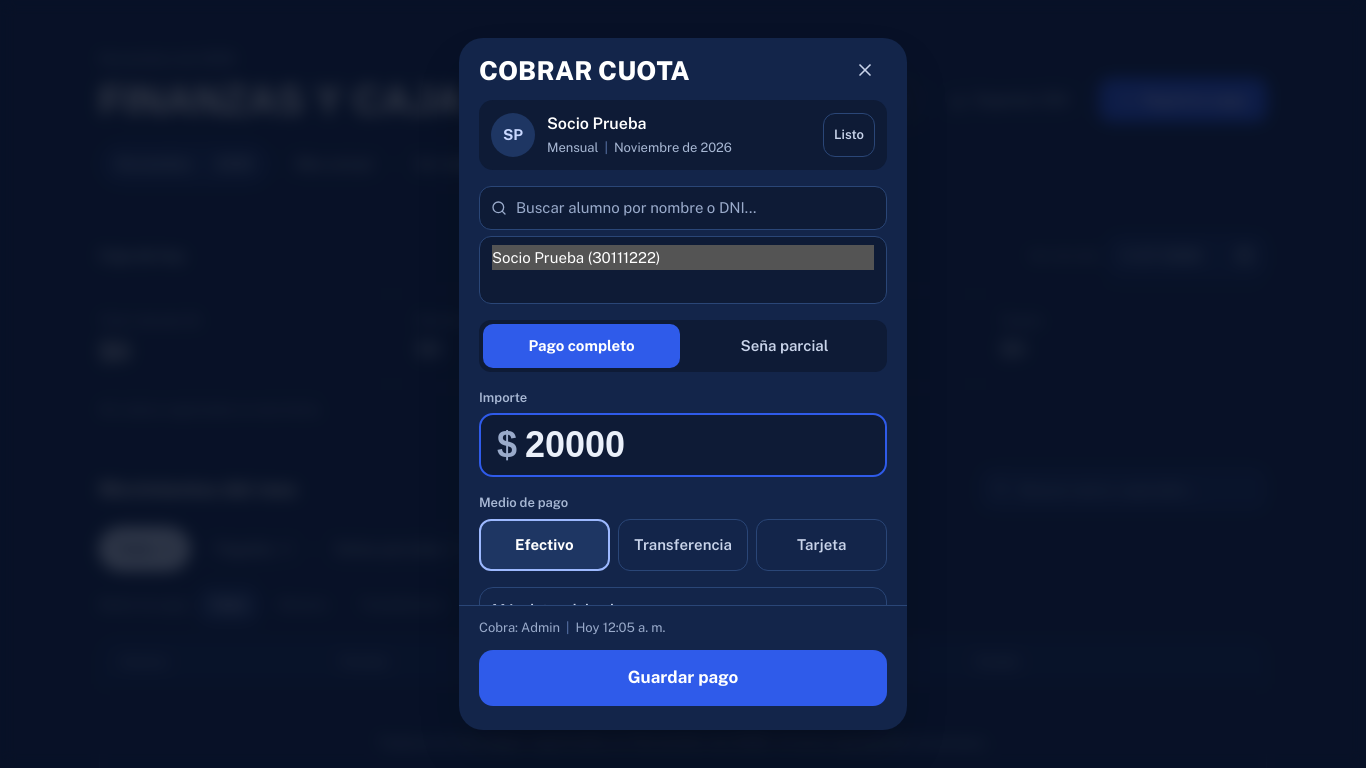
Scenario: confirmación de cobro › consulta el resultado incierto sin repetir el cobro
Click the button "Guardar pago" at (683, 678), box [479,650,887,706]
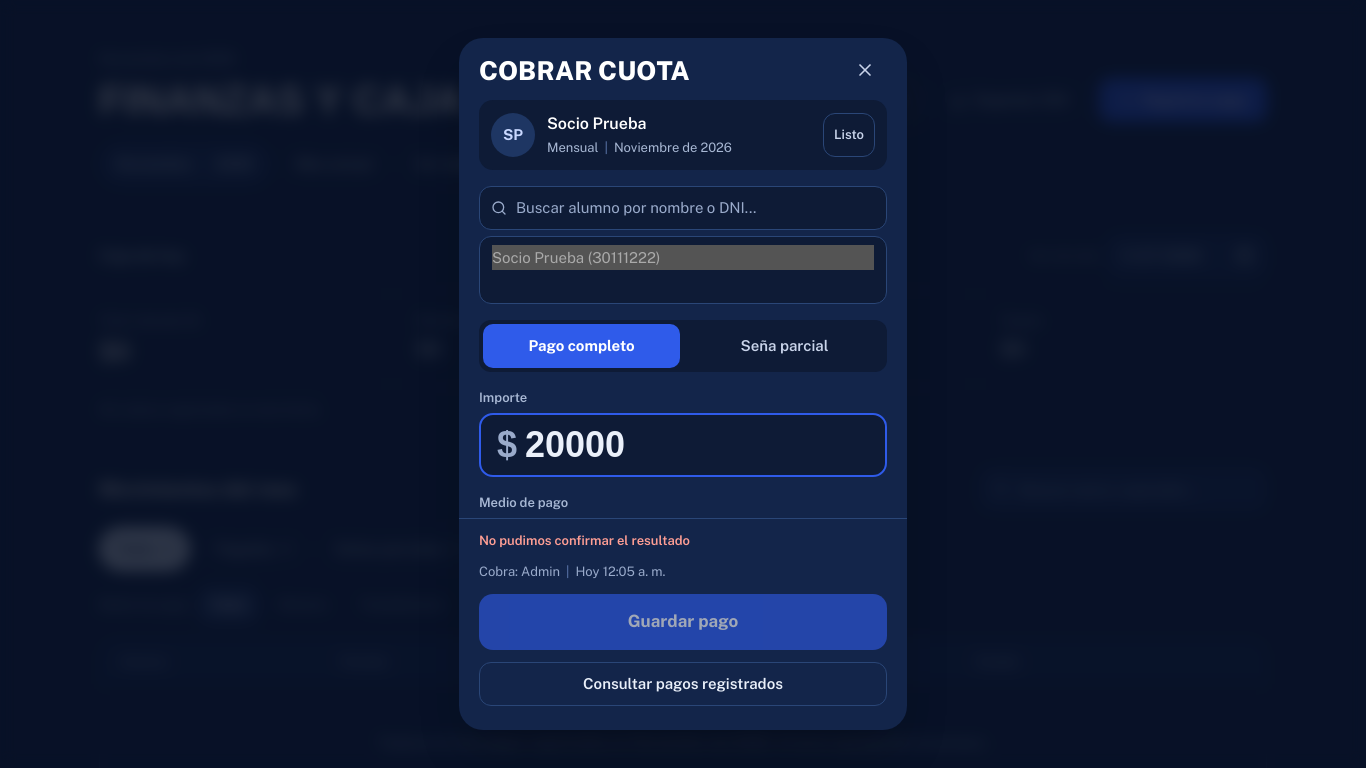
Result: the message "No pudimos confirmar el resultado" is shown at [479,533,690,548]
Result: the button "Guardar pago" is disabled at [479,594,887,650]
Click the button "Consultar pagos registrados" at (683, 684), box [479,662,887,706]
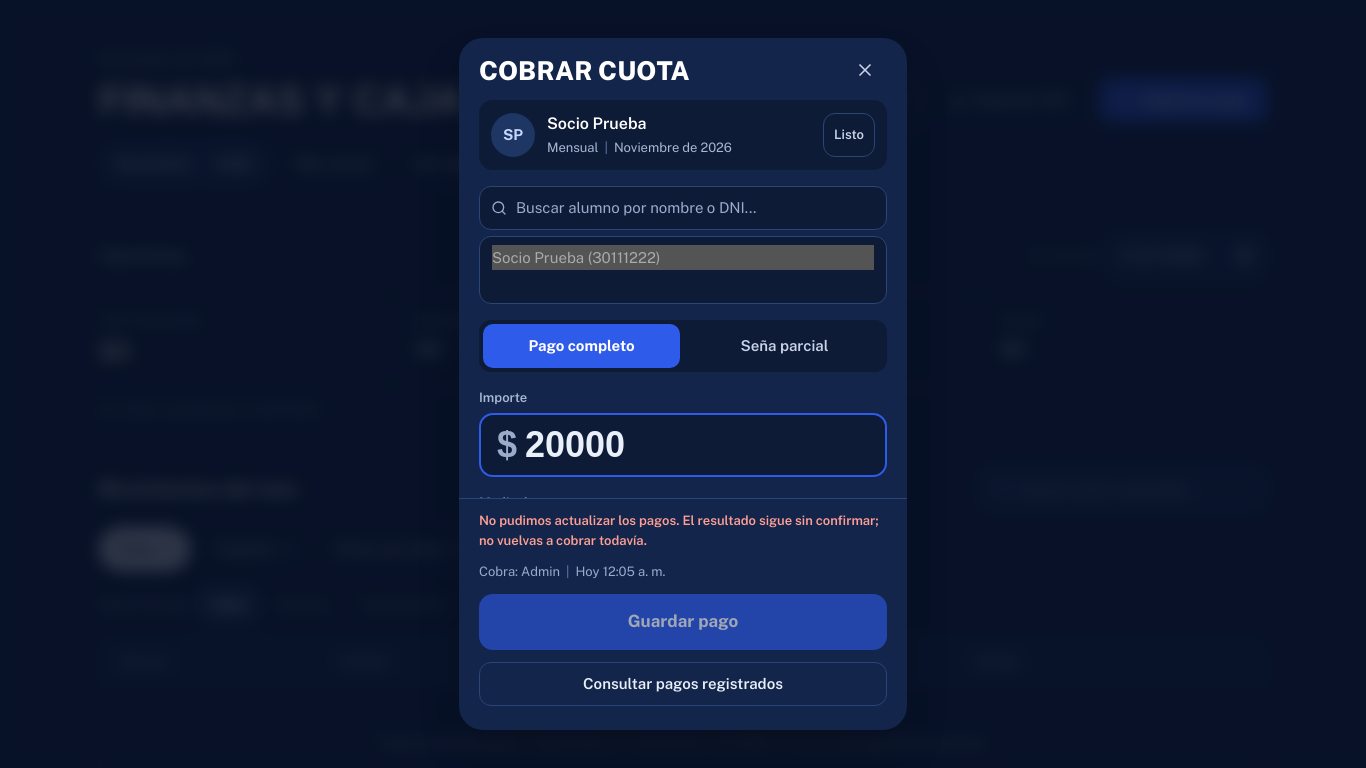
Result: the text "No pudimos actualizar los pagos" is shown at [479,513,879,548]
Click the button "Consultar pagos registrados" at (683, 684), box [479,662,887,706]
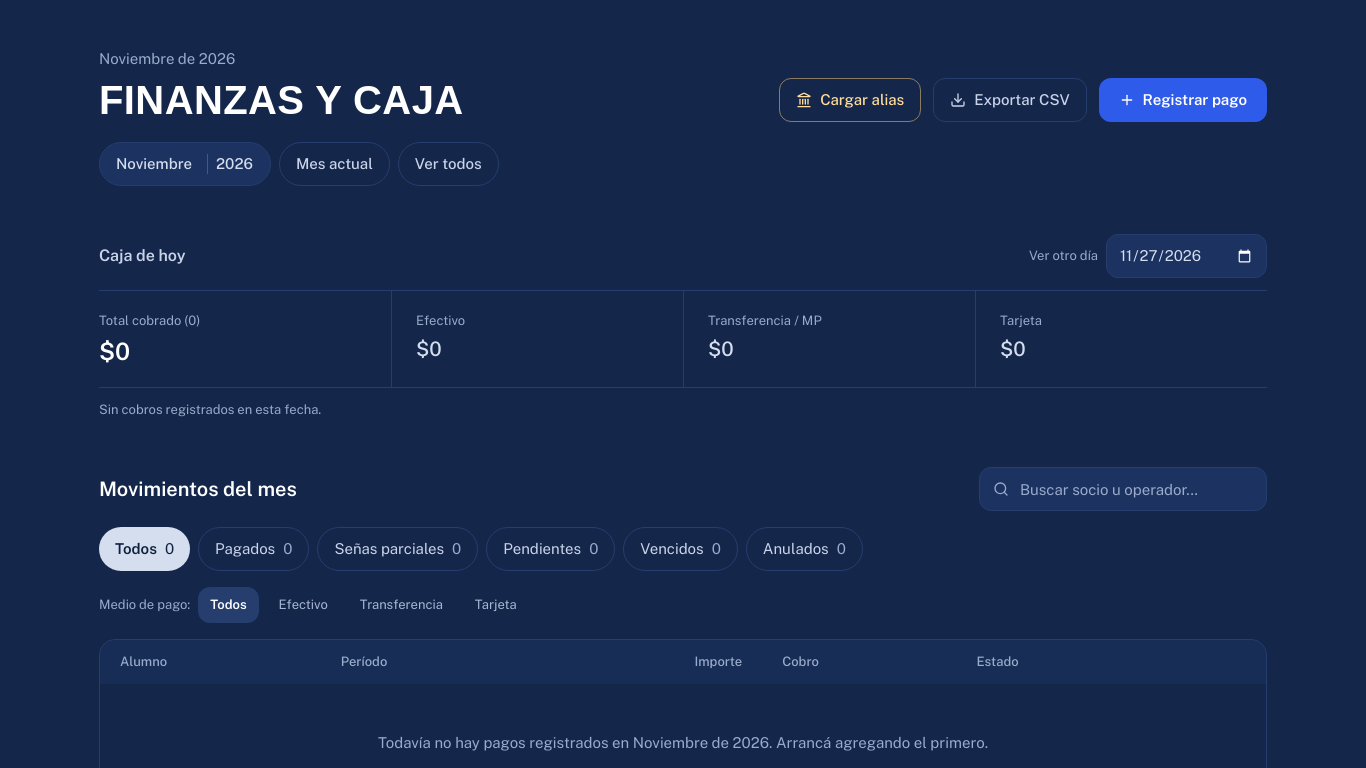
Result: the button "Consultar pagos registrados" is gone
